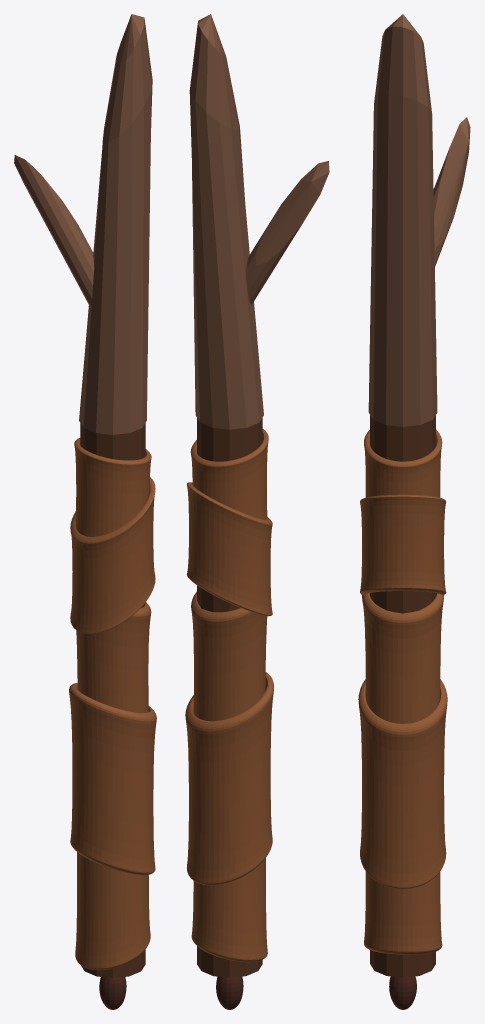
Rendered from Wand 366.glb.
The picture shows the model from 3 angles, left to right: view 1: azimuth 30°, elevation 25°; view 2: azimuth 210°, elevation 25°; view 3: azimuth 270°, elevation 25°; orthographic projection.
Visible parts, largest first — view 1: GeneratedWand; view 2: GeneratedWand; view 3: GeneratedWand.
Part boxes in pixels (x1,y1,x2,y2): GeneratedWand: (14, 14, 156, 1009); GeneratedWand: (185, 14, 329, 1009); GeneratedWand: (358, 14, 470, 1009).
Bounding box in the file's own units: 0.0578 × 0.5072 × 0.0513.
